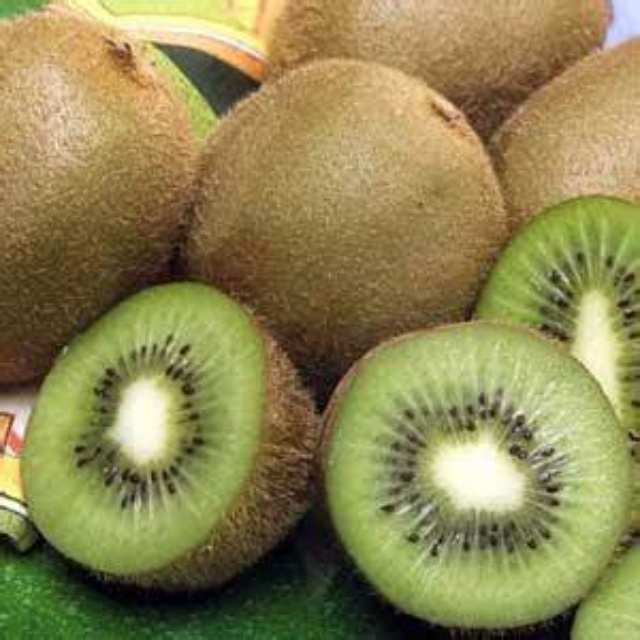kiwi: (23, 287, 322, 598), (312, 327, 628, 621), (189, 60, 499, 357), (4, 14, 210, 378), (272, 2, 639, 198), (458, 189, 639, 401)
